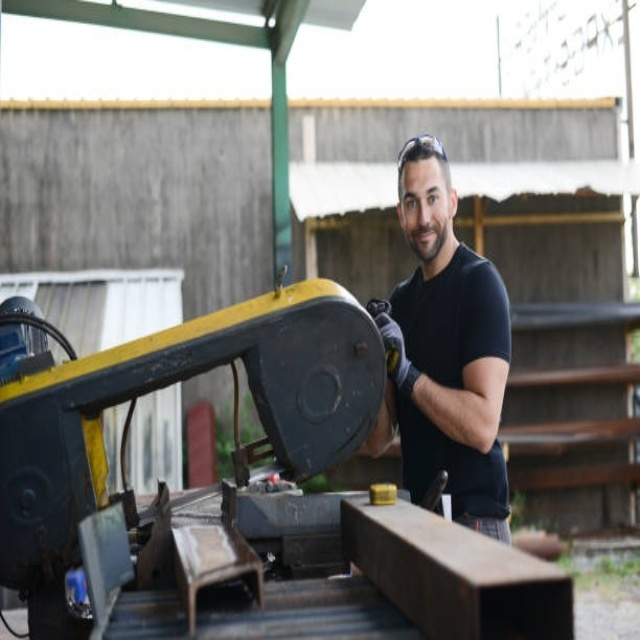Guantes: (372, 310, 419, 394)
Sin_gafas: (402, 184, 447, 213)
Sin_mascara: (409, 221, 440, 248)
